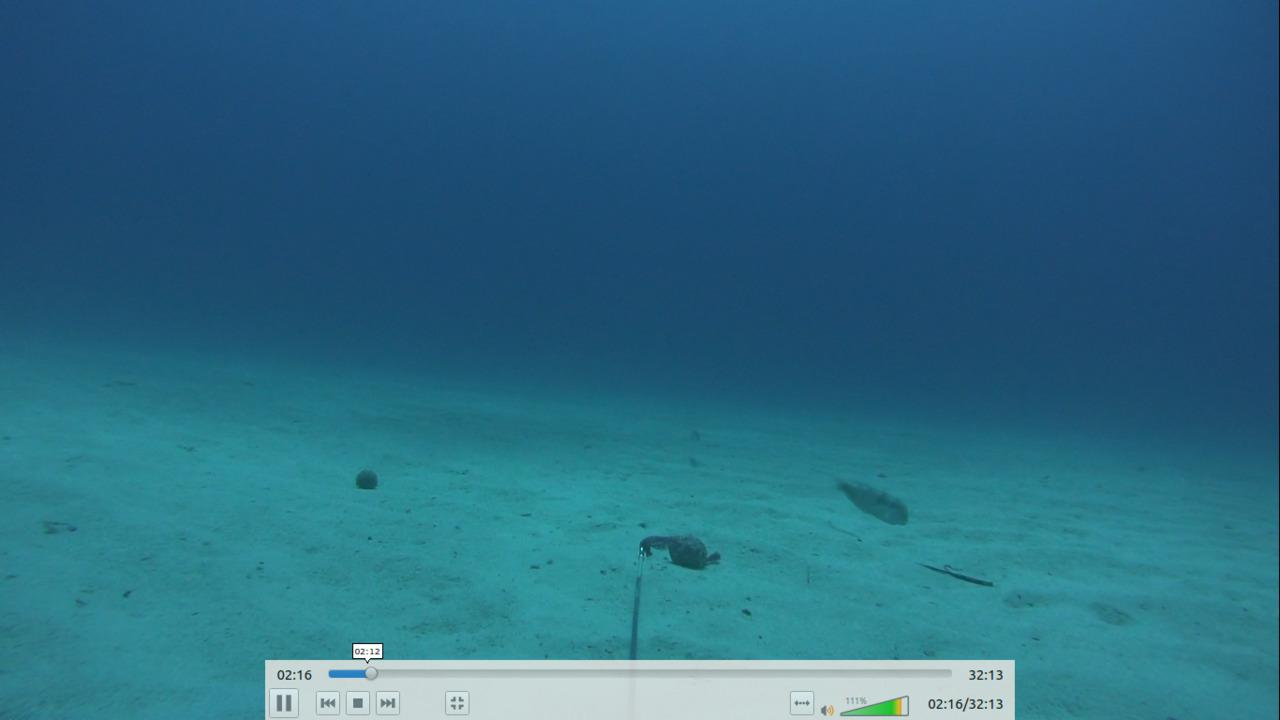raor: (825, 472, 911, 529)
